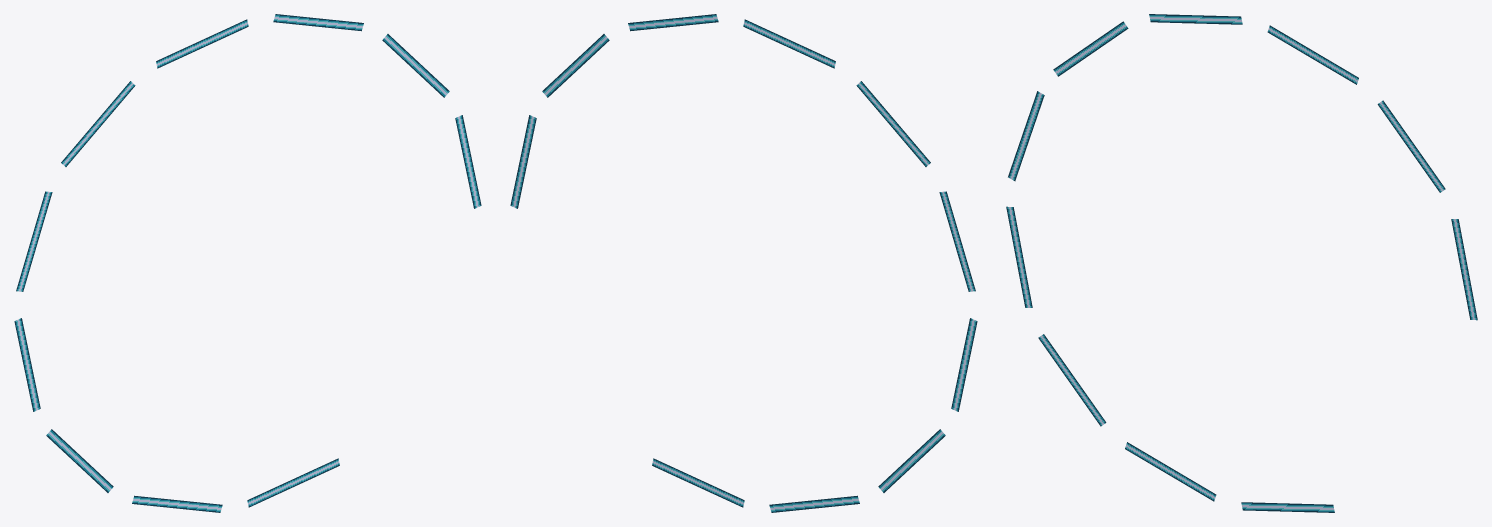
The model's file is cysky.halocard.glb.
3 views of the same model, side by side, from view 1: azimuth 30°, elevation 25°; view 2: azimuth 150°, elevation 25°; view 3: azimuth 330°, elevation 25° (orthographic).
Visible parts, largest first — view 1: kit_card_projection; view 2: kit_card_projection; view 3: kit_card_projection.
Boxes of the visible parts, bbox=[...] form: kit_card_projection: bbox=[14, 14, 481, 512]; kit_card_projection: bbox=[510, 14, 977, 512]; kit_card_projection: bbox=[1006, 14, 1477, 512].
Bounding box in the file's own units: 6.1 × 6.1 × 0.
Materials: 1 (1 with a texture image).
